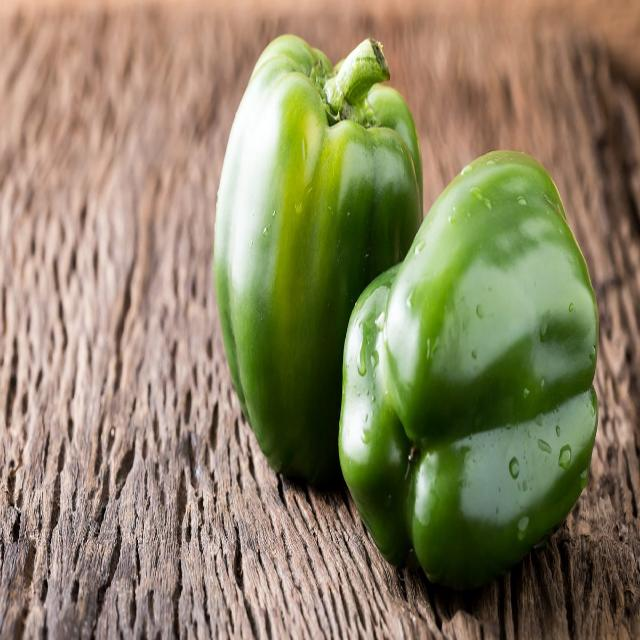bell pepper: (413, 208, 613, 611), (214, 64, 411, 272)
